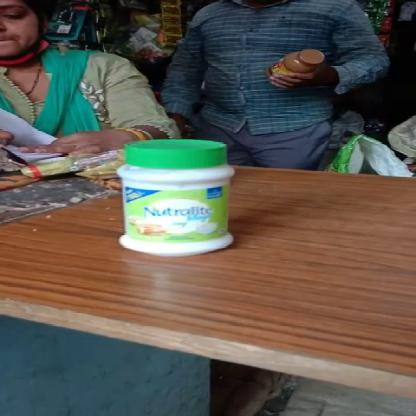Nutralite VEG MAYO 300g-275g-25g-: (116, 140, 234, 257)
